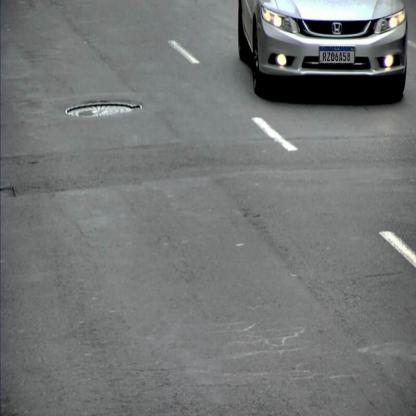PlacaM: (319, 46, 355, 64)
